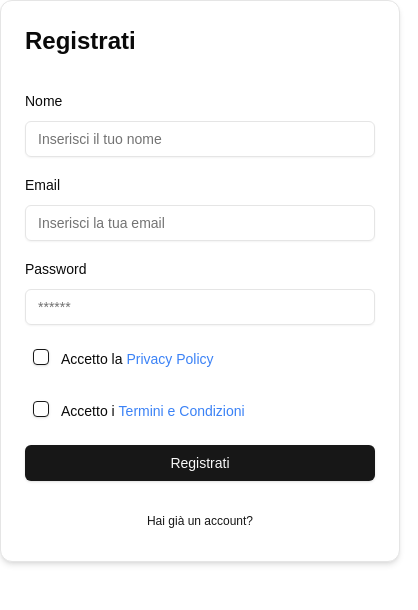
Test: RegisterForm › TC_1_3_RF_1: password troppo corta
Type "user@example.com" into the field labelled "Email" at (200, 223), box [25,205,375,241]
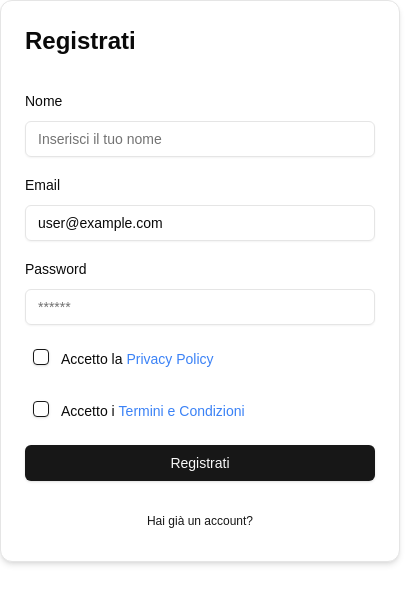
Type "1234" into the password field labelled "Password" at (200, 307), box [25,289,375,325]
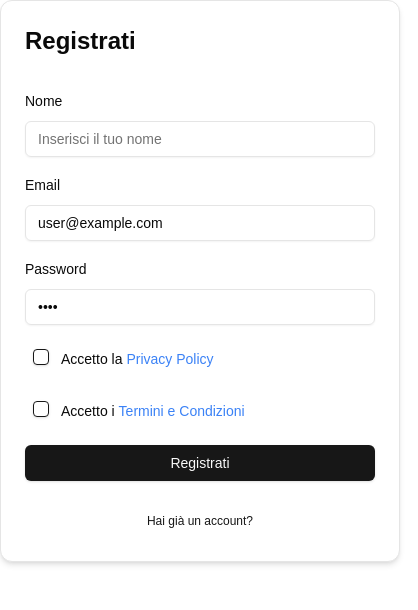
Type "Mario Rossi" into the field labelled "Nome" at (200, 139), box [25,121,375,157]
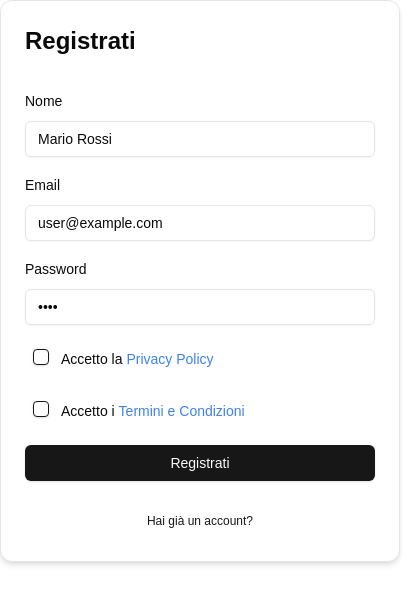
Click the checkbox named "Privacy Policy" next to "Accetto la" at (41, 357), box [33,349,49,365]
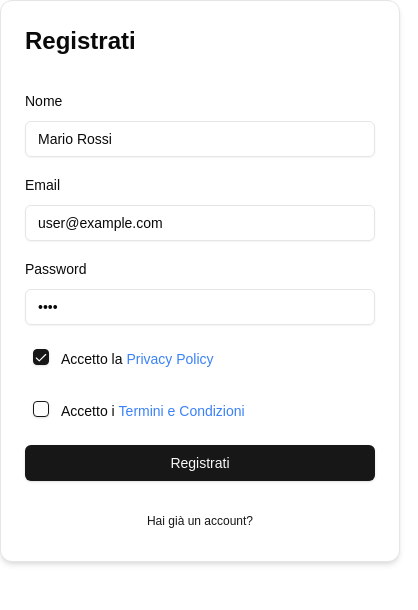
Click the checkbox named "Termini e Condizioni" next to "Accetto i" at (41, 409), box [33,401,49,417]
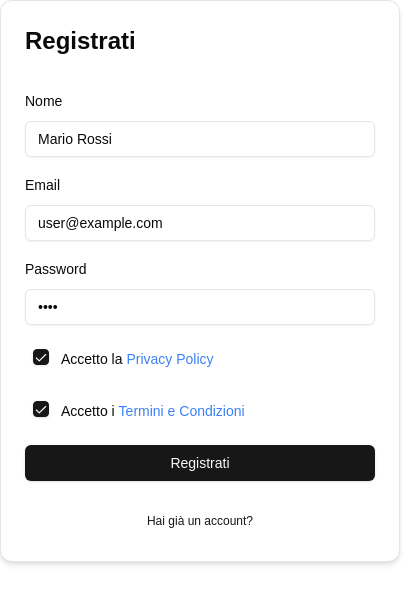
Click the button "Registrati" at (200, 463), box [25,445,375,481]
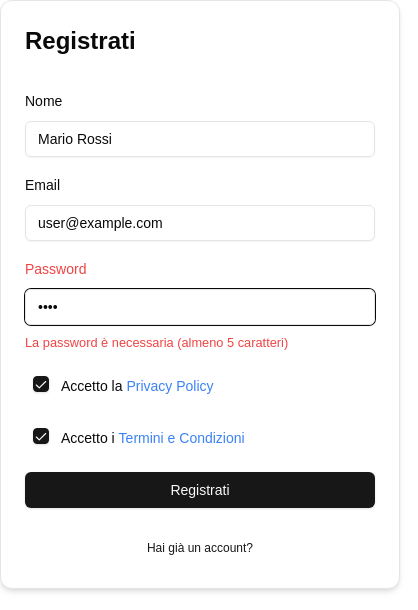
Result: the text "La password è necessaria (almeno 5 caratteri)" is shown at [25,335,288,350]
